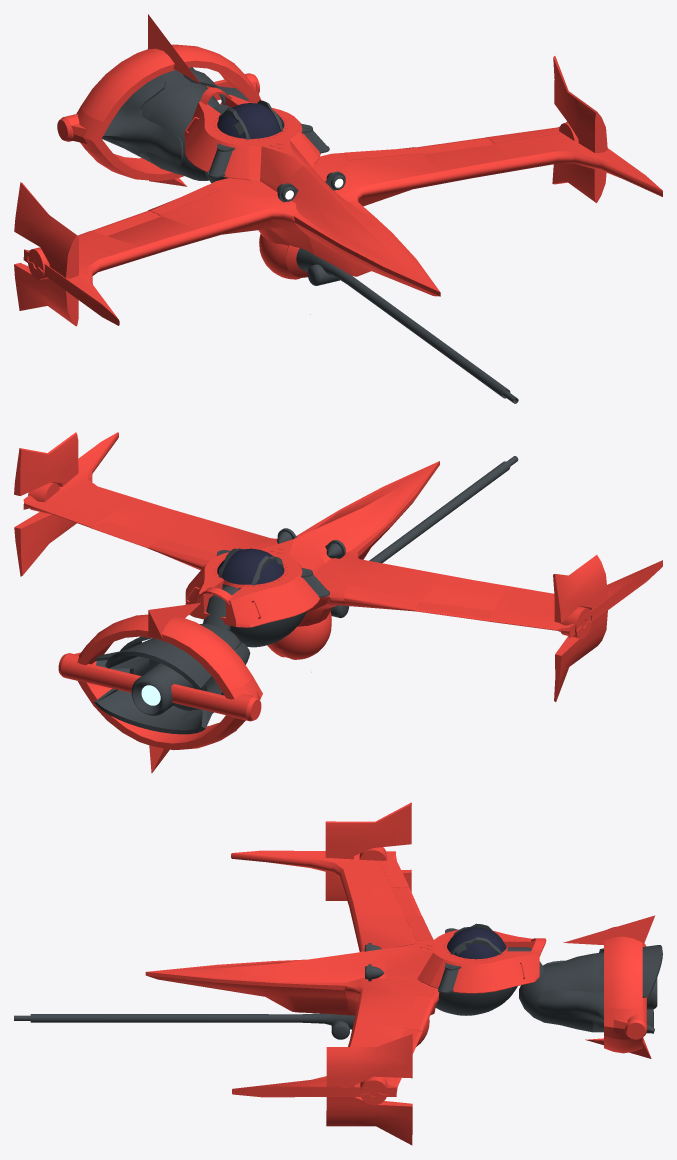
File: swordfish.glb
3 views of the same model, one above another, from view 1: azimuth 30°, elevation 25°; view 2: azimuth 150°, elevation 25°; view 3: azimuth 270°, elevation 25° (orthographic). The views are drawn at different scales.
Visible parts, largest first — view 1: Main Body_13, Circle.006_29, Cockpit Cover_20, Nose_8, Right Rudder_10, Left Rudder_7, Circle.005_23, Plane.007_31, Artillery_0, Cockpit_14, Artillery Base_3, Cube.002_26 (+3 smaller); view 2: Main Body_13, Circle.006_29, Cockpit Cover_20, Circle.005_23, Left Rudder_7, Right Rudder_10, Nose_8, Cylinder.004_28, Cockpit_14, Cylinder.005_32, Artillery_0, Artillery Base_3 (+6 smaller); view 3: Main Body_13, Left Rudder_7, Cockpit Cover_20, Circle.005_23, Nose_8, Circle.006_29, Right Rudder_10, Artillery_0, Plane.006_30, Cockpit_14, Sphere.002_21, Cube.002_26 (+3 smaller).
Boxes of the visible parts, x1,y1,x2,y2 form: Main Body_13: (23, 121, 662, 325); Circle.006_29: (76, 44, 261, 180); Cockpit Cover_20: (184, 94, 320, 192); Nose_8: (287, 165, 439, 291); Right Rudder_10: (14, 182, 78, 326); Left Rudder_7: (552, 56, 607, 203); Circle.005_23: (104, 55, 219, 180); Plane.007_31: (101, 76, 183, 165); Artillery_0: (296, 248, 510, 398); Cockpit_14: (217, 100, 284, 139); Artillery Base_3: (259, 234, 307, 279); Cube.002_26: (148, 14, 200, 83); Main Body_13: (23, 432, 662, 637); Circle.006_29: (77, 614, 262, 749); Cockpit Cover_20: (185, 535, 329, 627); Circle.005_23: (94, 623, 241, 734); Left Rudder_7: (14, 432, 78, 576); Right Rudder_10: (553, 555, 607, 701); Nose_8: (303, 461, 439, 563); Cylinder.004_28: (58, 653, 261, 721); Cockpit_14: (217, 548, 284, 589); Cylinder.005_32: (131, 663, 195, 715); Artillery_0: (330, 461, 510, 611); Artillery Base_3: (267, 612, 331, 659); Main Body_13: (145, 850, 439, 1097); Left Rudder_7: (326, 1034, 412, 1145); Cockpit Cover_20: (385, 928, 539, 993); Circle.005_23: (519, 945, 662, 1033); Nose_8: (147, 948, 385, 982); Circle.006_29: (604, 926, 642, 1053); Right Rudder_10: (325, 802, 411, 900); Artillery_0: (30, 1013, 354, 1029); Plane.006_30: (537, 961, 603, 1029); Cockpit_14: (447, 923, 506, 959); Sphere.002_21: (435, 986, 517, 1015); Cube.002_26: (563, 915, 655, 946).
Bounding box in the file's own units: 17.77 × 5.61 × 20.86.
